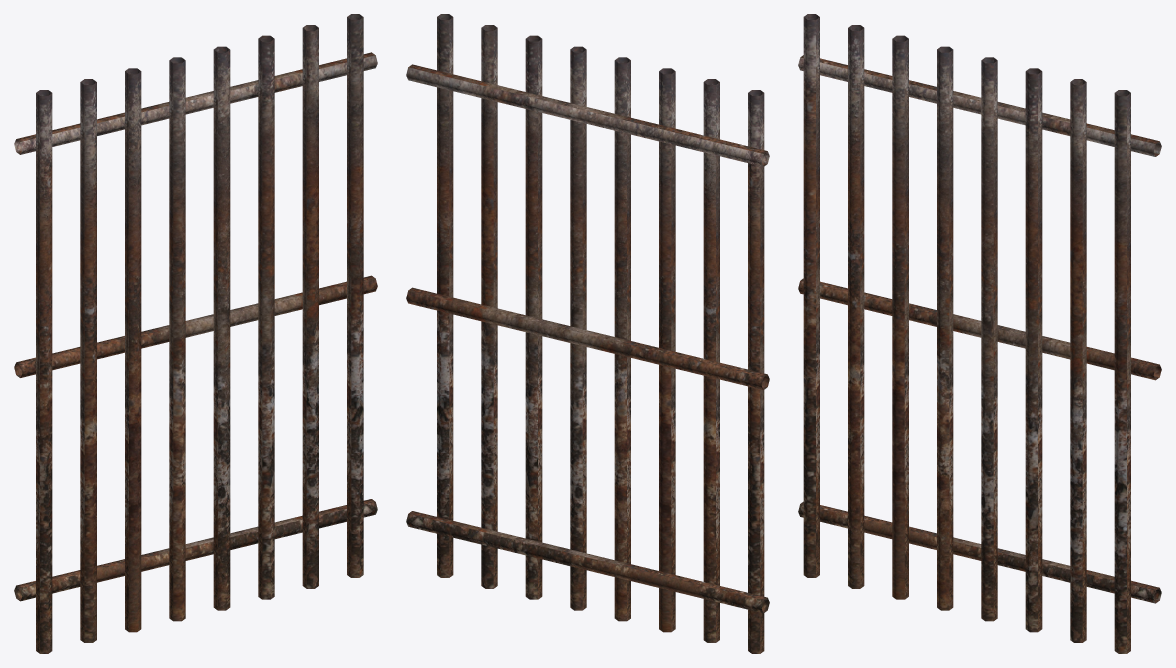
Rendered from Gitter.gltf.
The picture shows the model from 3 angles, left to right: view 1: azimuth 30°, elevation 25°; view 2: azimuth 150°, elevation 25°; view 3: azimuth 330°, elevation 25°; orthographic projection.
Visible parts, largest first — view 1: Cube; view 2: Cube; view 3: Cube.
Part boxes in pixels (<box>): Cube: <box>14,14,377,653</box>; Cube: <box>406,14,769,653</box>; Cube: <box>798,14,1161,653</box>.
Size of the model in its own units: 2 by 3 by 0.16.
1 material, 1 textured.
